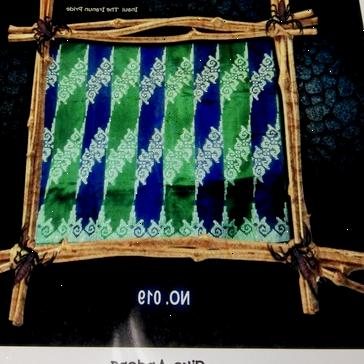malong: (26, 31, 294, 253)
